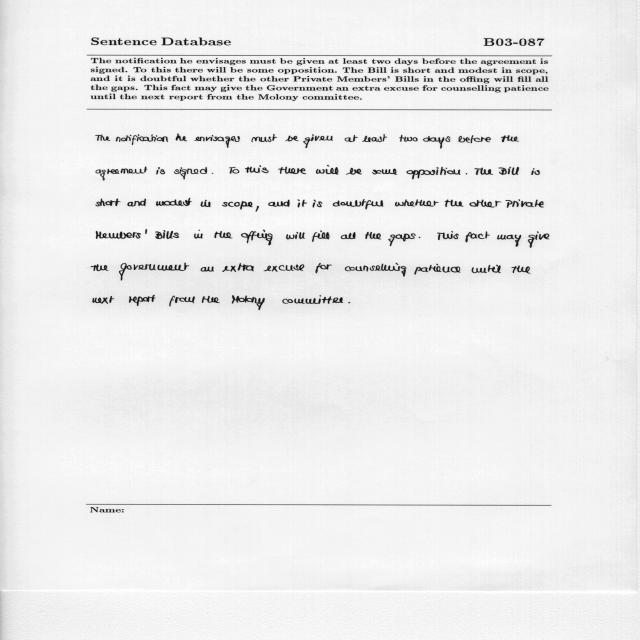word: (119, 263, 189, 281), (345, 263, 406, 277), (96, 167, 147, 181), (407, 167, 460, 179), (194, 135, 240, 148), (116, 134, 168, 145), (282, 295, 343, 304), (96, 229, 147, 239), (415, 264, 461, 275), (333, 199, 383, 209), (232, 295, 265, 310), (241, 230, 273, 245), (174, 167, 207, 180), (303, 134, 333, 148), (388, 234, 416, 247), (528, 231, 549, 248), (423, 136, 450, 149), (506, 199, 544, 208), (264, 264, 305, 272), (497, 234, 521, 247), (395, 200, 439, 207), (156, 198, 192, 206), (222, 263, 254, 272), (129, 295, 155, 306), (169, 296, 195, 307), (222, 201, 253, 210), (465, 232, 490, 243), (458, 135, 491, 143), (469, 200, 501, 208), (472, 265, 501, 273), (316, 165, 338, 175), (155, 230, 179, 239), (312, 230, 330, 242), (251, 134, 277, 142), (362, 134, 387, 142), (96, 199, 121, 207), (437, 231, 459, 240), (279, 167, 307, 174), (245, 165, 268, 173), (372, 168, 397, 175), (315, 263, 332, 273), (498, 167, 519, 175), (93, 296, 114, 304), (268, 200, 290, 207), (127, 199, 146, 207), (445, 199, 464, 207), (512, 266, 531, 274), (475, 167, 493, 175), (399, 135, 418, 142), (214, 231, 233, 238), (286, 232, 305, 239), (501, 135, 519, 142), (91, 264, 109, 271), (202, 296, 220, 303), (346, 168, 362, 175), (366, 232, 382, 239), (96, 134, 110, 141), (341, 232, 355, 239), (345, 135, 358, 142), (175, 134, 187, 141), (285, 136, 299, 142), (194, 230, 203, 239), (313, 200, 323, 208), (156, 167, 165, 175), (298, 200, 307, 208), (230, 167, 240, 174), (201, 200, 211, 207), (201, 267, 214, 272), (531, 168, 540, 175), (256, 206, 259, 212), (466, 173, 467, 175), (348, 302, 350, 303), (212, 173, 213, 174), (419, 237, 420, 238)
